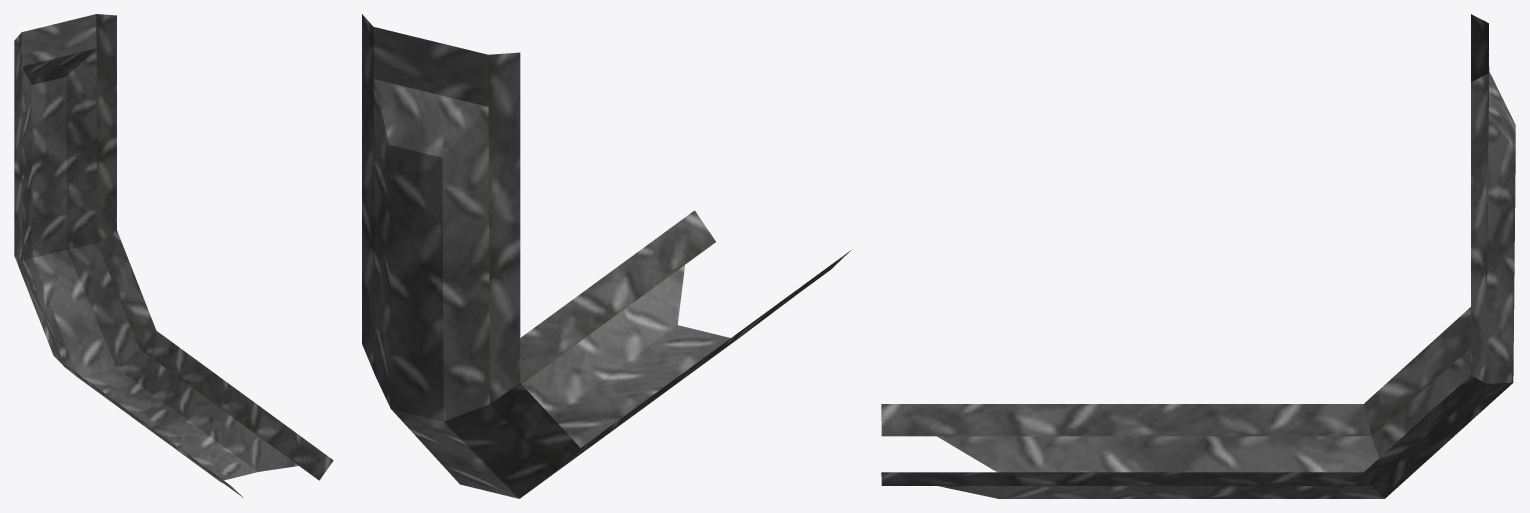
File: zid_bocni2_testiram1.obj
3 renders of one model, left to right at view 1: azimuth 30°, elevation 25°; view 2: azimuth 150°, elevation 25°; view 3: azimuth 270°, elevation 25°, orthographic. The views are drawn at different scales.
Size of the model in its own units: 0.0859 by 0.2566 by 0.337.
